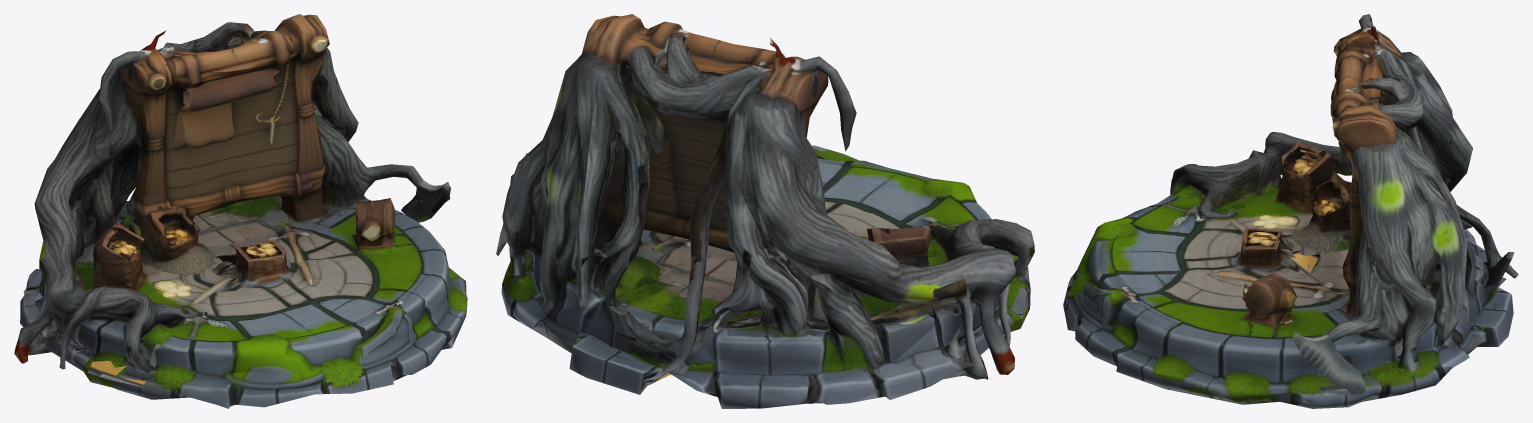
Rendered from Quest Tile - LOW (1).glb.
3 renders of one model, left to right at view 1: azimuth 30°, elevation 25°; view 2: azimuth 150°, elevation 25°; view 3: azimuth 270°, elevation 25°, orthographic. The views are drawn at different scales.
Visible parts, largest first — view 1: Mesh0; view 2: Mesh0; view 3: Mesh0.
Boxes of the visible parts, x1,y1,x2,y2 form: Mesh0: (14,14,467,408); Mesh0: (496,14,1034,408); Mesh0: (1063,14,1518,408).
Bounding box in the file's own units: 1.99 × 1.19 × 1.8.
1 material, 1 textured.
